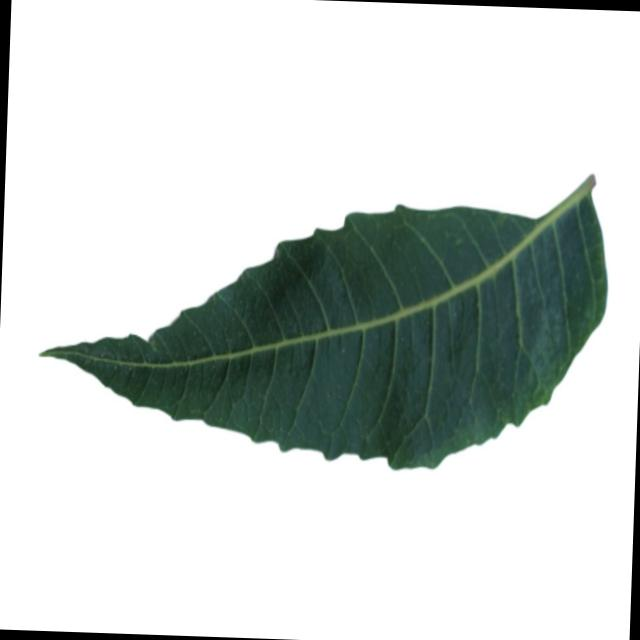Medicinal-Neem: (38, 152, 612, 476)
